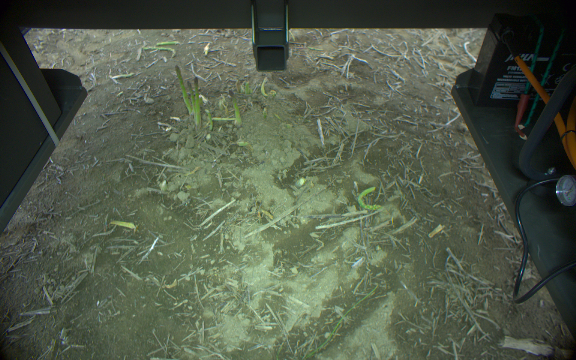aspa: (174, 64, 191, 114), (356, 184, 382, 212), (227, 89, 243, 128), (193, 76, 203, 127), (147, 45, 178, 58), (155, 38, 179, 47), (186, 79, 191, 103)
